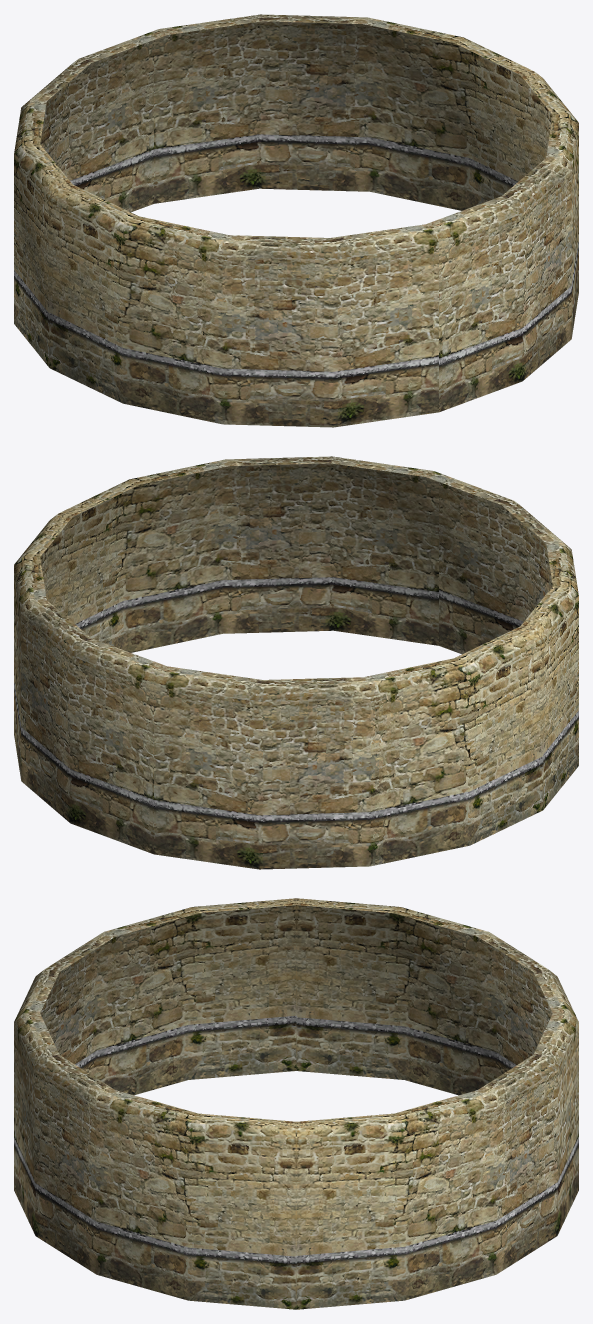
Rendered from tropaion_struct_b.dae.
3 views of the same model, one above another, from view 1: azimuth 30°, elevation 25°; view 2: azimuth 150°, elevation 25°; view 3: azimuth 270°, elevation 25° (orthographic).
Parts seen in each view (by area): view 1: hele_struct_b; view 2: hele_struct_b; view 3: hele_struct_b.
Part boxes in pixels (box(x1,y1,x2,y2)): hele_struct_b: box(14, 14, 578, 427); hele_struct_b: box(14, 456, 578, 869); hele_struct_b: box(14, 898, 578, 1309).
Size of the model in its own units: 7.94 by 7.94 by 2.74.
